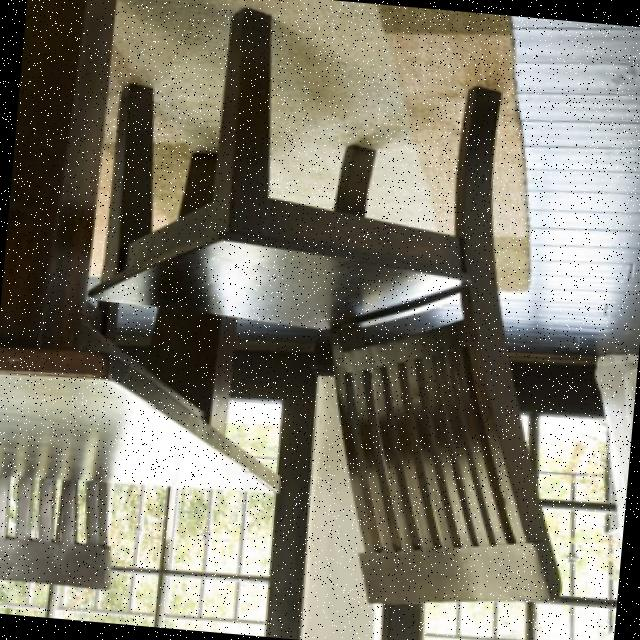Chair: (64, 18, 616, 640)
Table: (0, 0, 332, 533)
